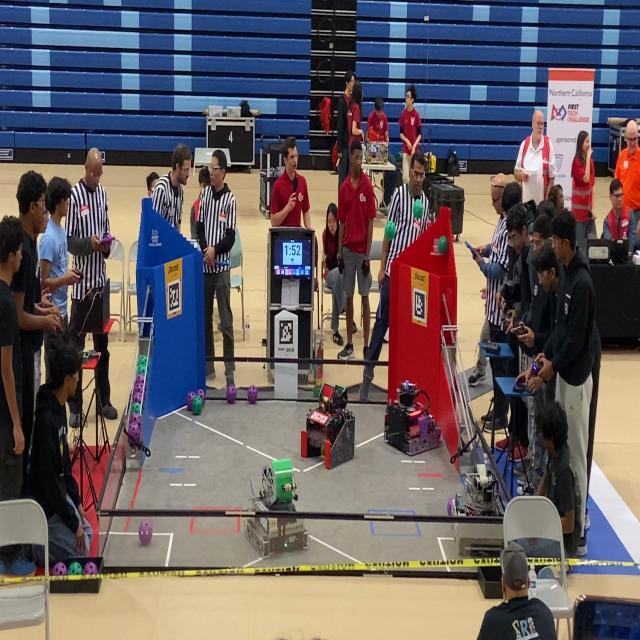artifact_green: (385, 221, 396, 241), (192, 396, 203, 415), (413, 200, 423, 220), (438, 235, 448, 254), (68, 562, 82, 575), (248, 385, 257, 404), (197, 389, 206, 404), (395, 150, 403, 163), (138, 359, 148, 369), (131, 403, 141, 413), (137, 363, 146, 374), (135, 375, 145, 384), (138, 355, 147, 364), (143, 356, 148, 366), (139, 354, 147, 360), (138, 354, 143, 362)
artifact_purple: (138, 520, 153, 546), (128, 423, 140, 445), (52, 562, 67, 576), (83, 561, 97, 575), (186, 392, 195, 411), (248, 385, 257, 404), (193, 396, 202, 415), (227, 385, 236, 403), (447, 497, 455, 516), (129, 414, 141, 426), (197, 389, 206, 405), (134, 383, 144, 395), (133, 392, 142, 404), (135, 374, 145, 384)
